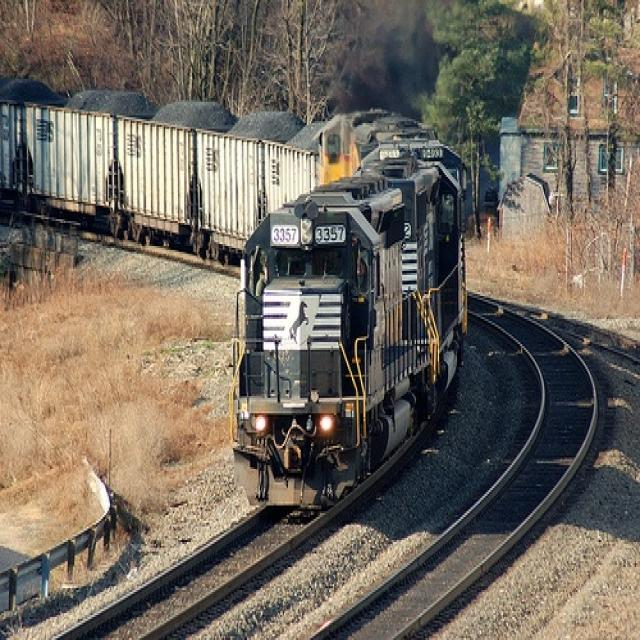train: (1, 74, 469, 518)
